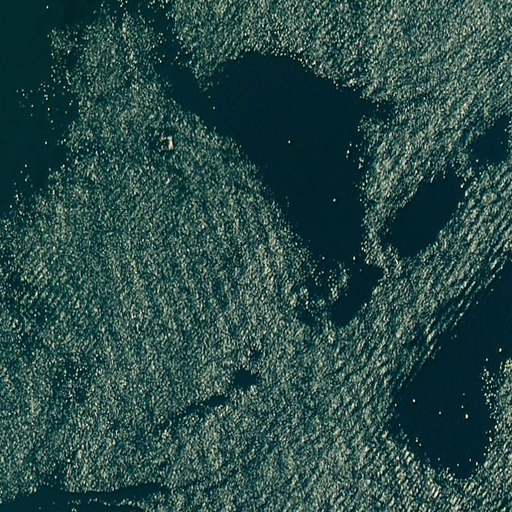ship: (165, 133, 174, 150)
